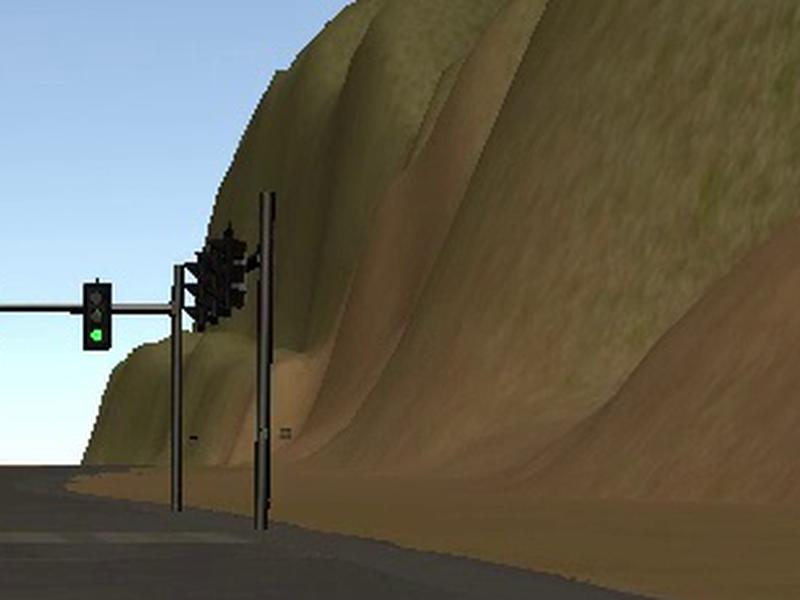Green: (82, 283, 111, 351)
